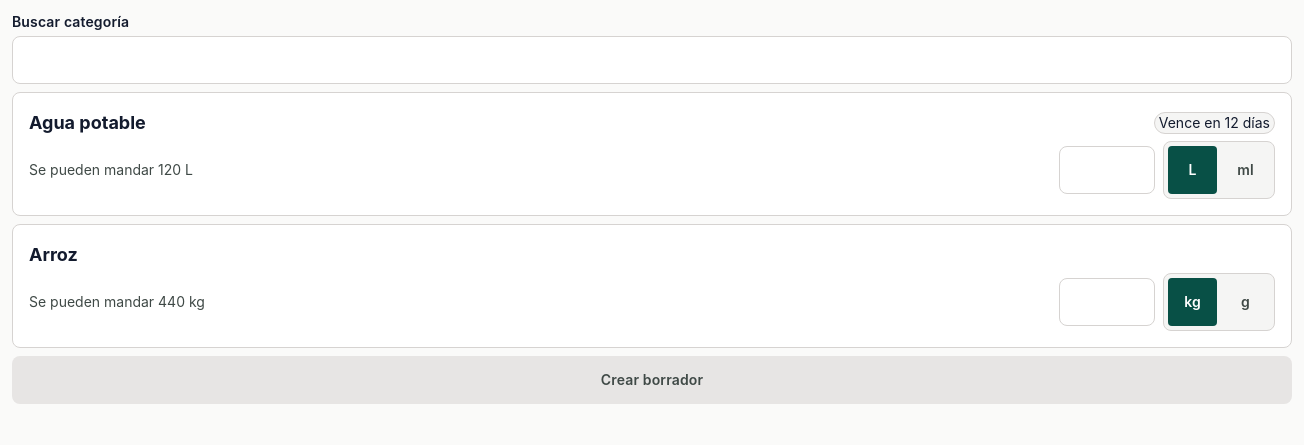
Scenario: una cantidad negativa se marca y no deja guardar
Type "-5" into the number field named "Cantidad de Arroz (kg)" in the row of "440 kg".
click(1107, 302); type("-5")  # box [1059,278,1155,326]
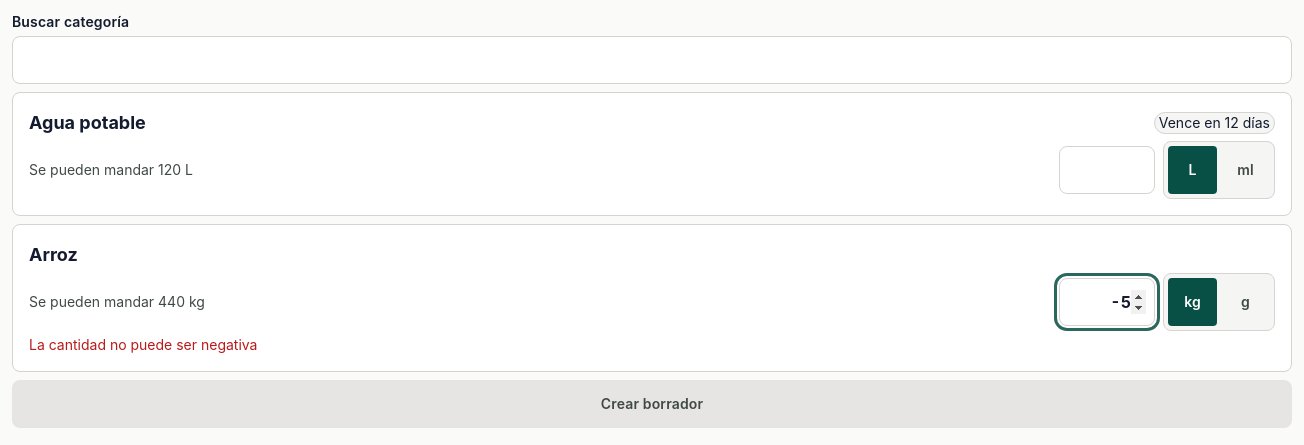
Expected: the button "Crear borrador" is disabled, [12,380,1292,428]
Now the text "La cantidad no puede ser negativa" is shown, box [29,336,258,353]
